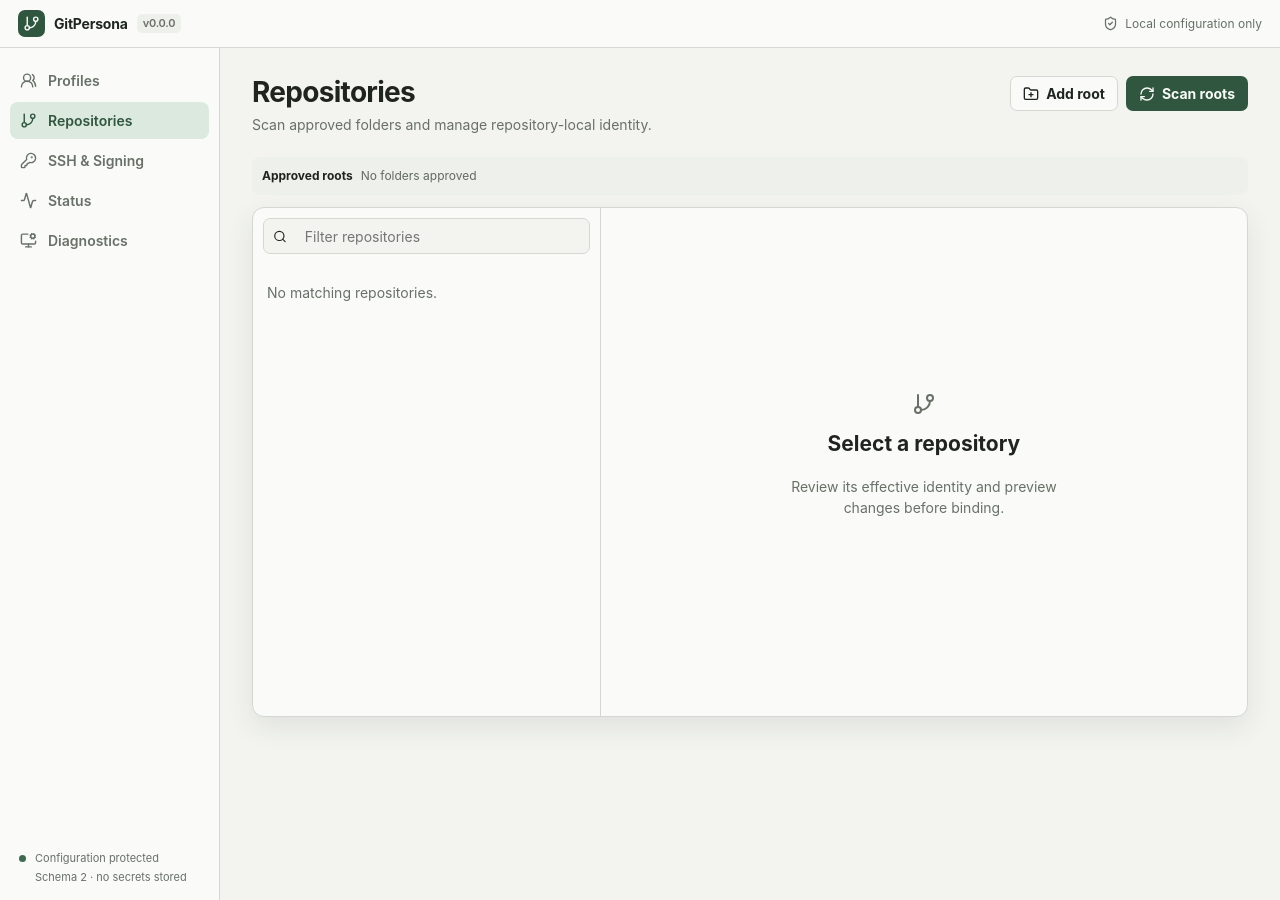
Test: GitPersona app shell › explains why SSH testing is unavailable without a key
The width and height of the screenshot is (1280, 900).
Click the button "SSH & Signing" at (110, 160), box x1=10 y1=142 x2=209 y2=179
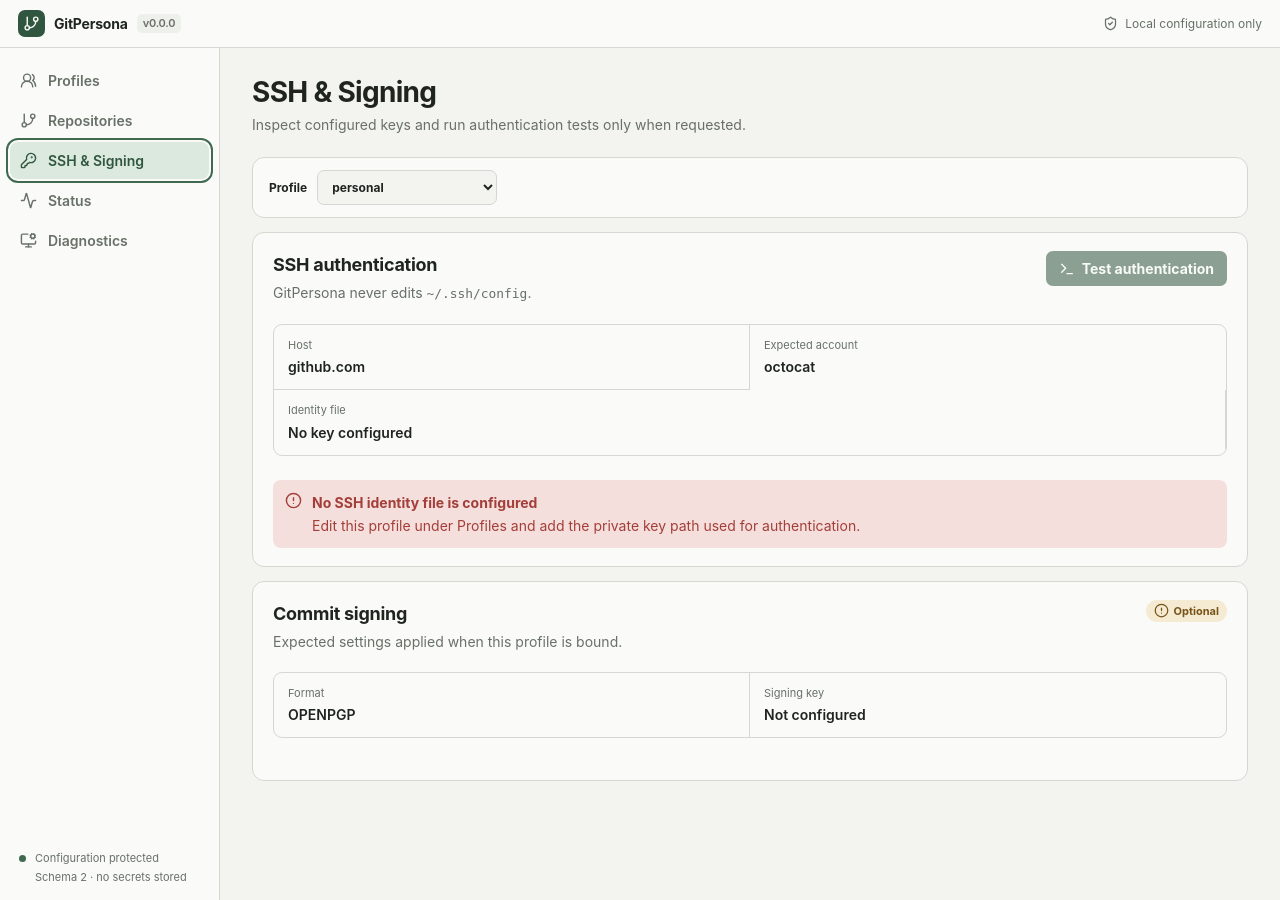
Now the button "Test authentication" is disabled, box x1=1046 y1=251 x2=1227 y2=286
Now the text "No SSH identity file is configured" is shown, box x1=312 y1=494 x2=538 y2=510
